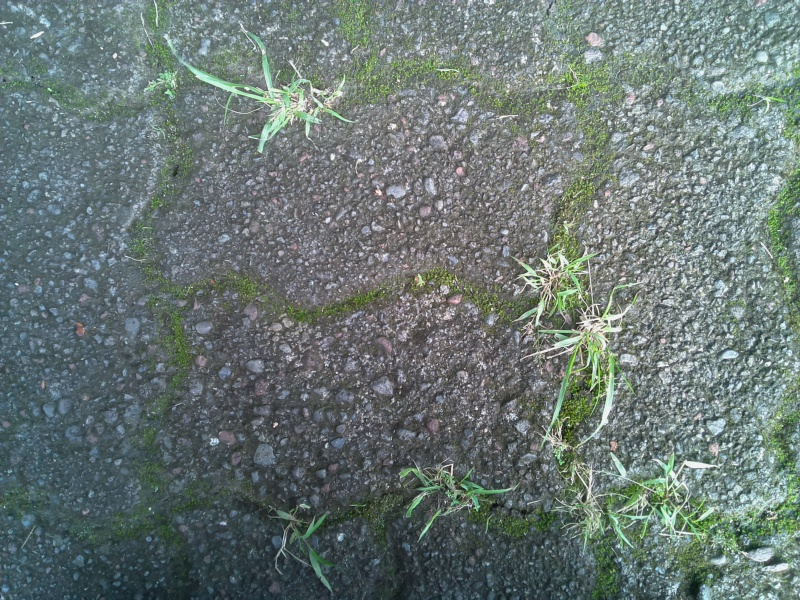Weed: (209, 39, 351, 143), (389, 456, 501, 533), (636, 462, 716, 553), (495, 240, 583, 322), (559, 313, 629, 404), (261, 496, 336, 580), (555, 485, 632, 549), (533, 423, 580, 466), (137, 61, 179, 102), (741, 91, 791, 119)
